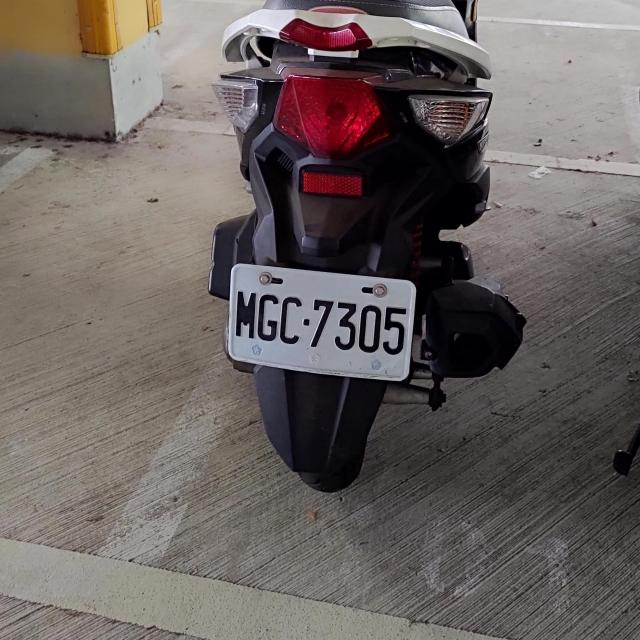W: (224, 262, 416, 381)
